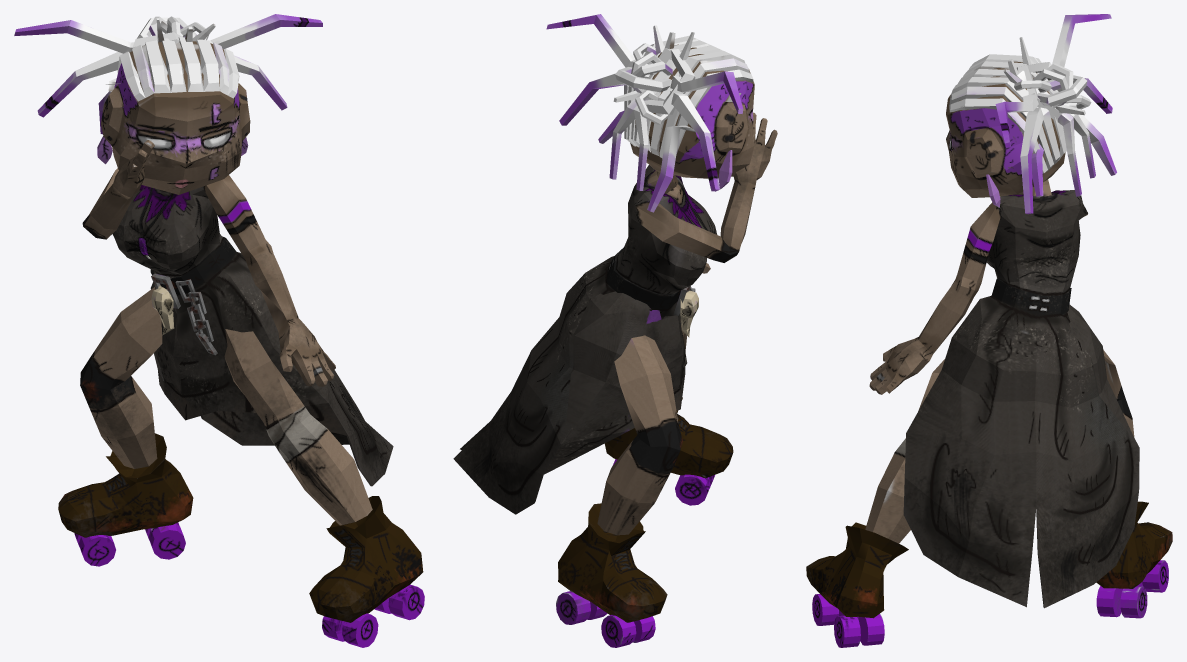
Rendered from bruja_000049.obj.
3 views of the same model, side by side, from view 1: azimuth 30°, elevation 25°; view 2: azimuth 150°, elevation 25°; view 3: azimuth 270°, elevation 25° (orthographic). The views are drawn at different scales.
Parts seen in each view (by area): view 1: Bruja_Plane.001; view 2: Bruja_Plane.001; view 3: Bruja_Plane.001.
Boxes of the visible parts, <box> form: Bruja_Plane.001: <box>14,14,424,647</box>; Bruja_Plane.001: <box>453,14,777,647</box>; Bruja_Plane.001: <box>806,14,1172,647</box>.
Bounding box in the file's own units: 9.25 × 15.43 × 9.25.
